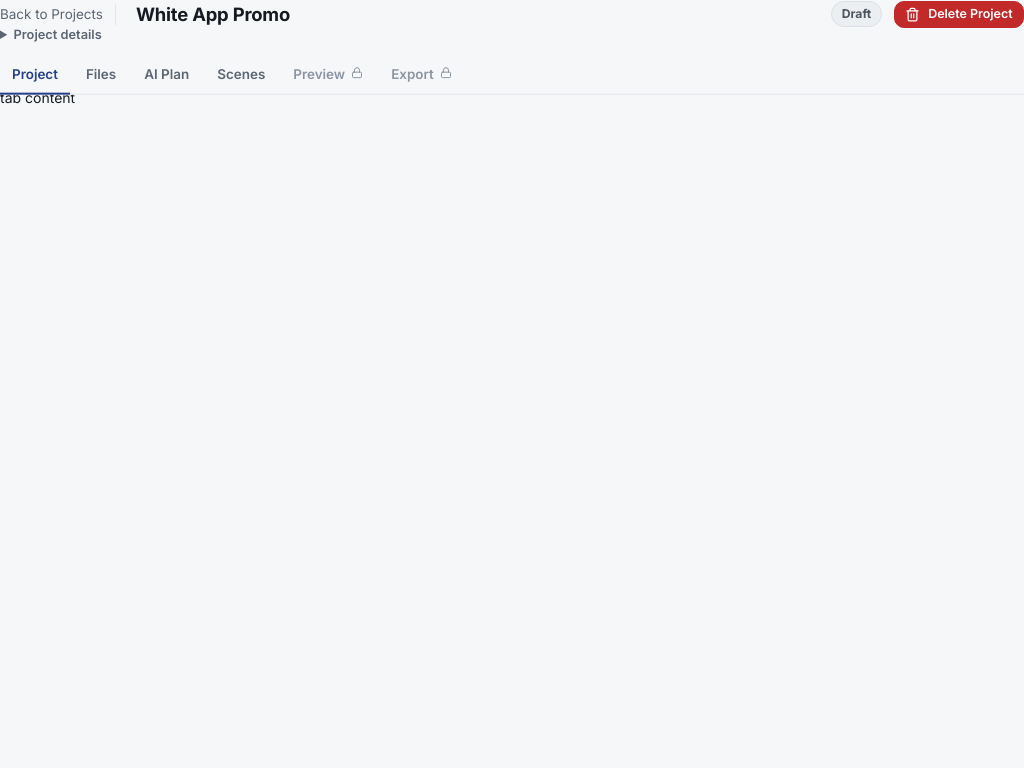
Scenario: ProjectWorkspaceShell - Delete Project › shows a Delete Project action that opens a confirmation naming the real project - never deletes on the first click
Expected: the heading "White App Promo" is shown, [136,0,290,28]
Click the button "Delete Project".
click(959, 14)  # box [894,1,1023,28]
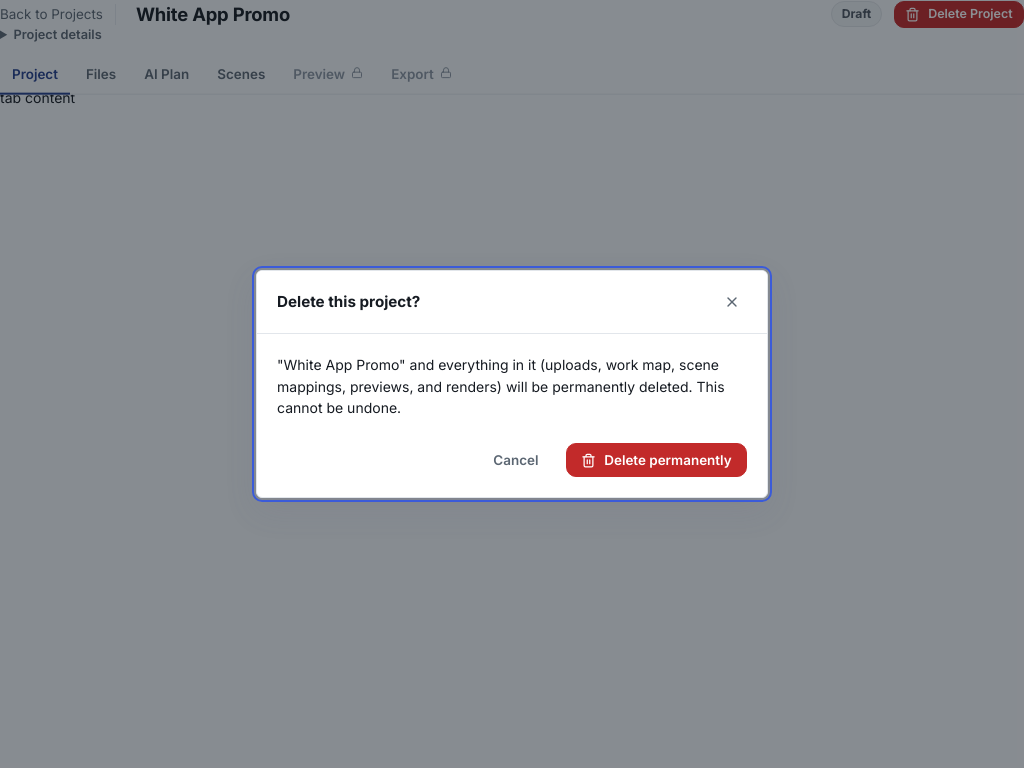
Now the text "Delete this project?" is shown, box [277,290,420,314]
Now the text "\"White App Promo\" and everything in it (uploads, work map, scene mappings, previews, and renders) will be permanently de" is shown, box [277,356,725,416]
